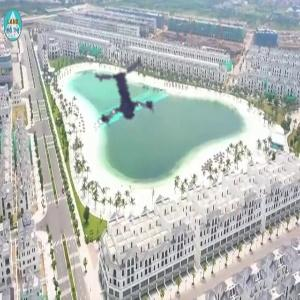drone: (82, 58, 176, 152)
